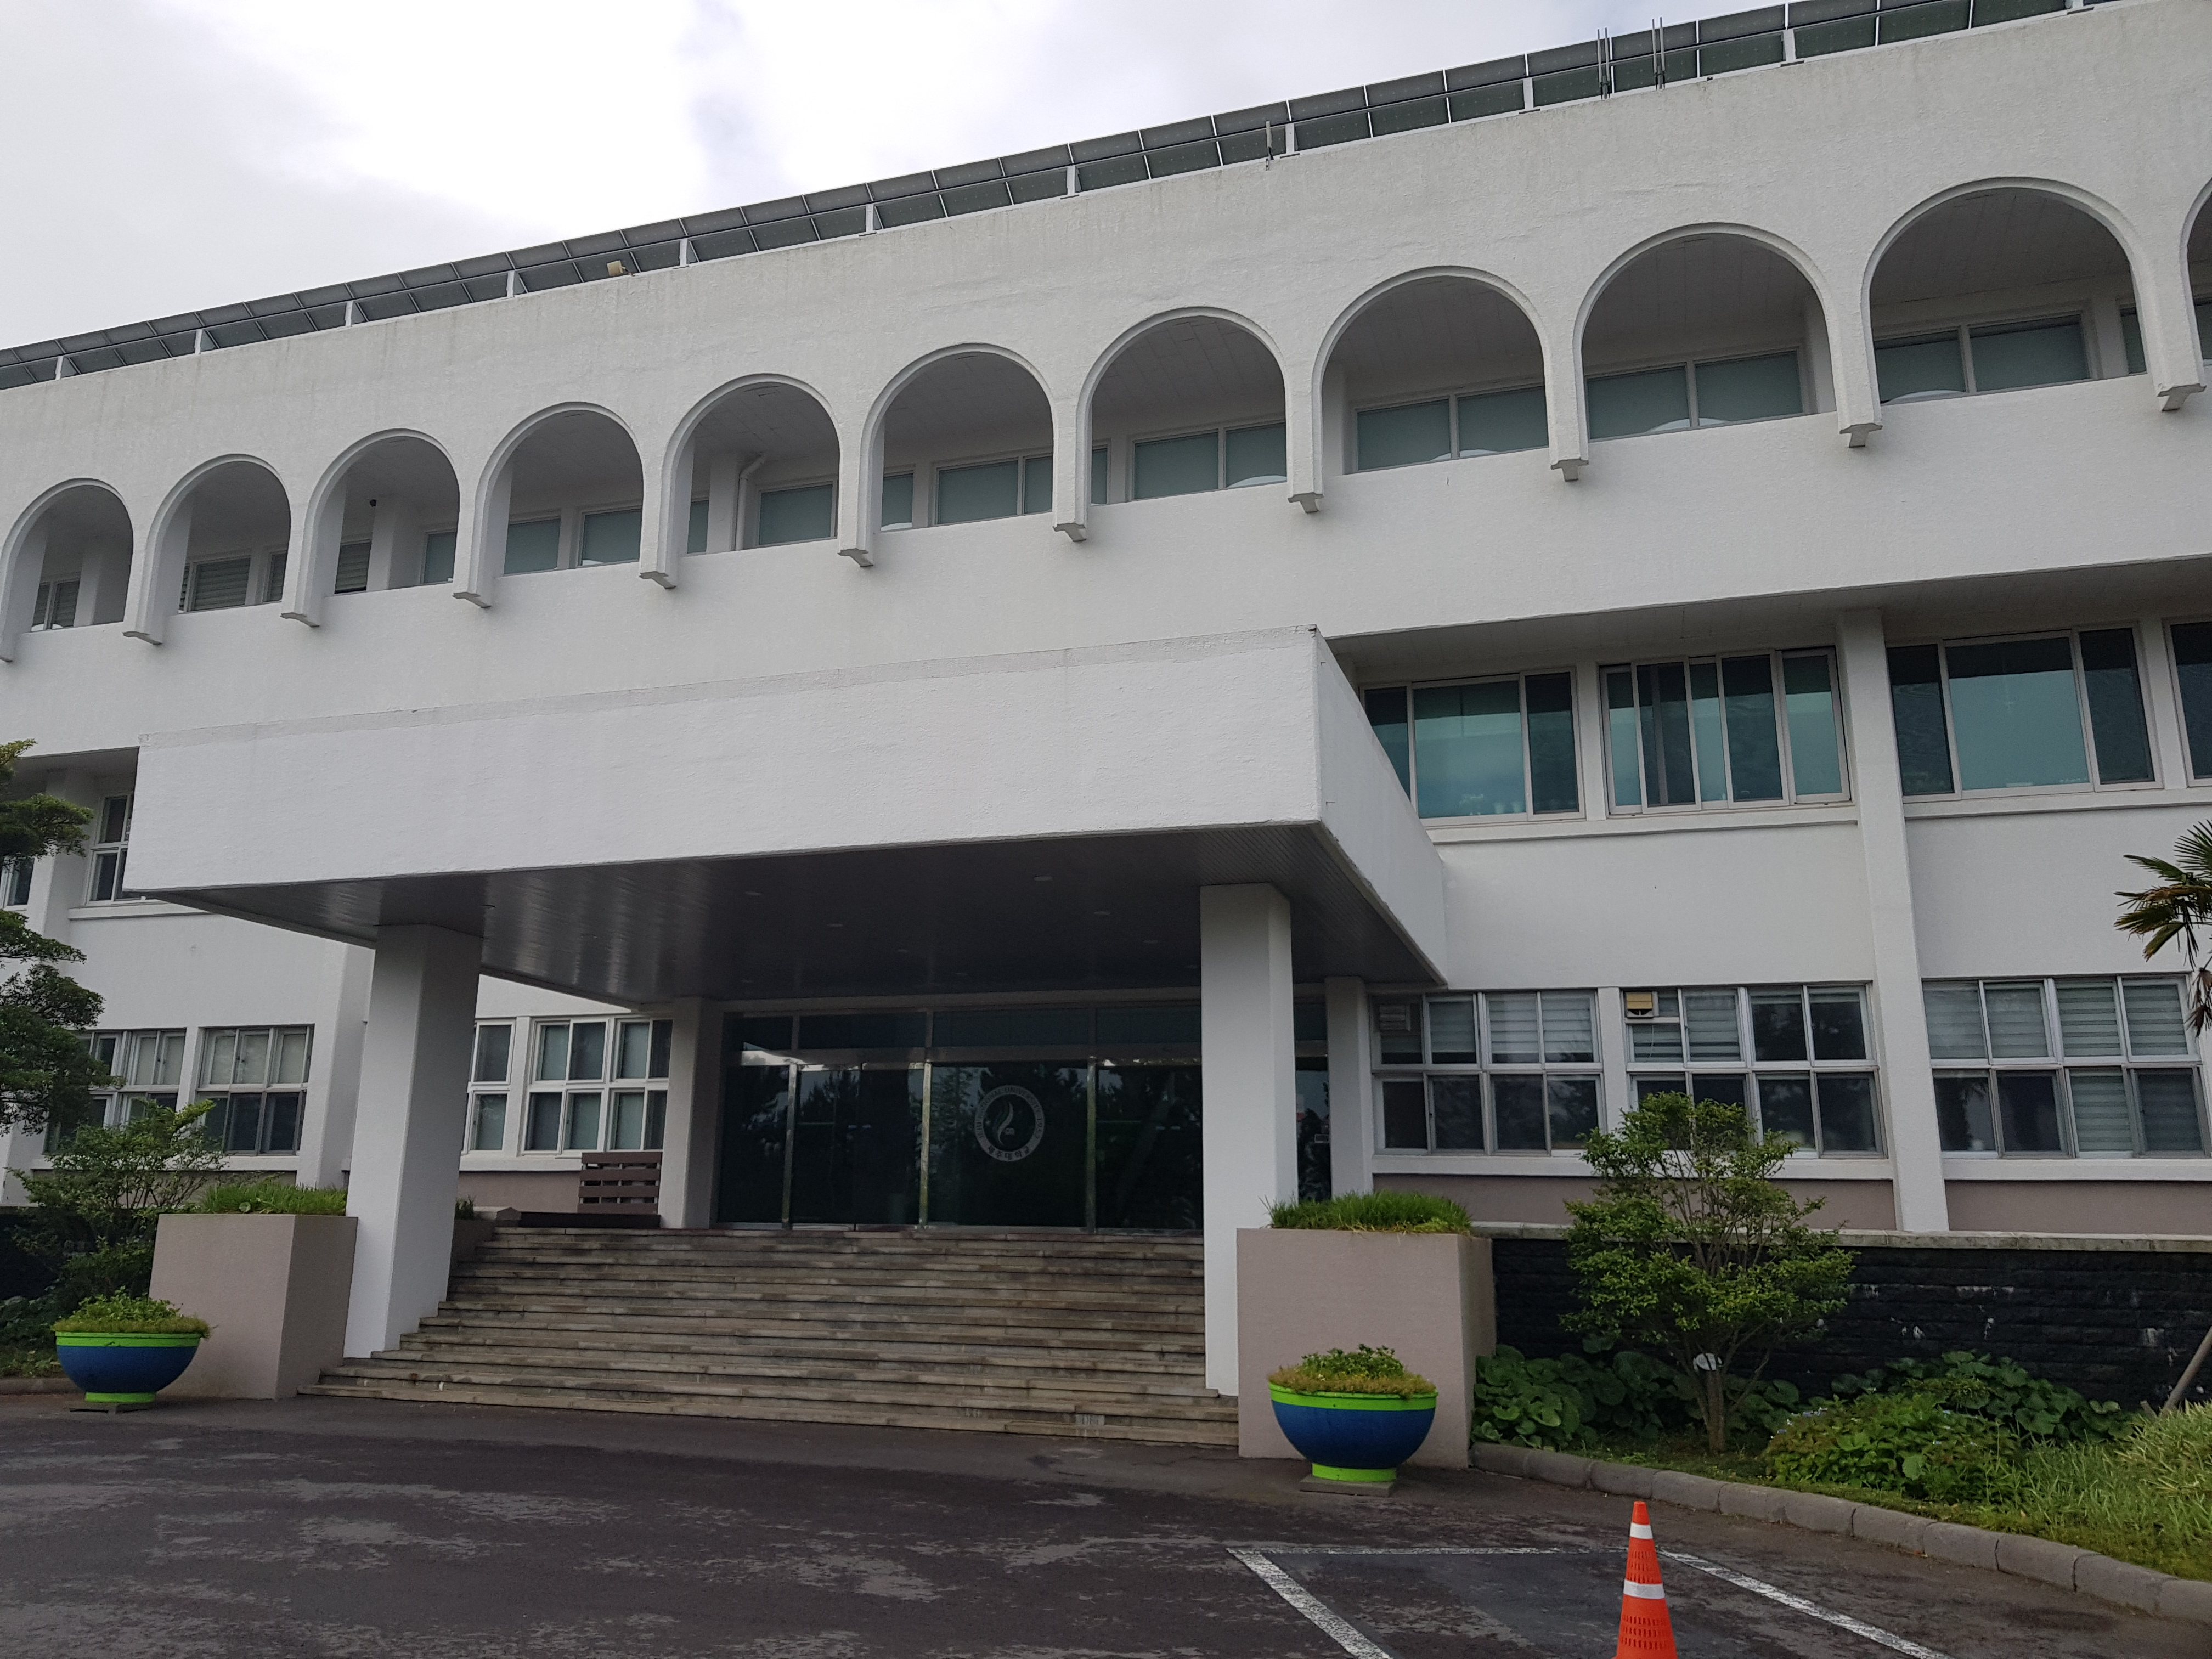Main Building of University: (49, 120, 2170, 1358), (148, 622, 1465, 1457), (54, 61, 2163, 580)
